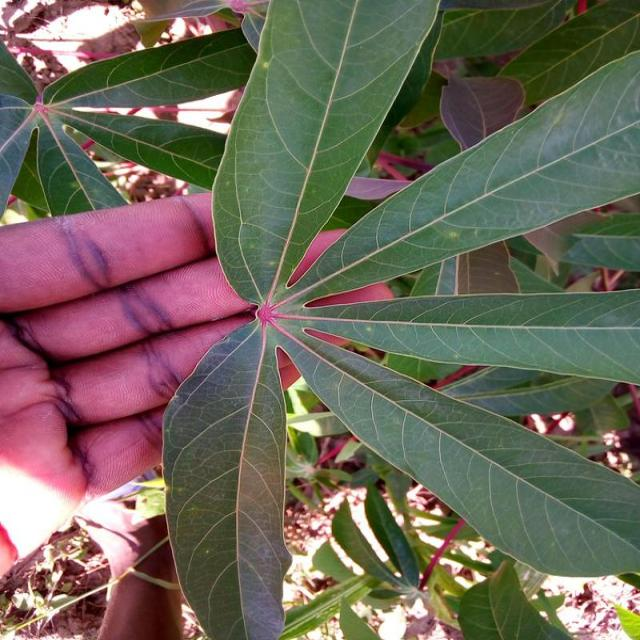cassava leaf: (160, 1, 638, 638), (283, 48, 639, 302), (209, 0, 442, 307), (160, 316, 292, 638)
